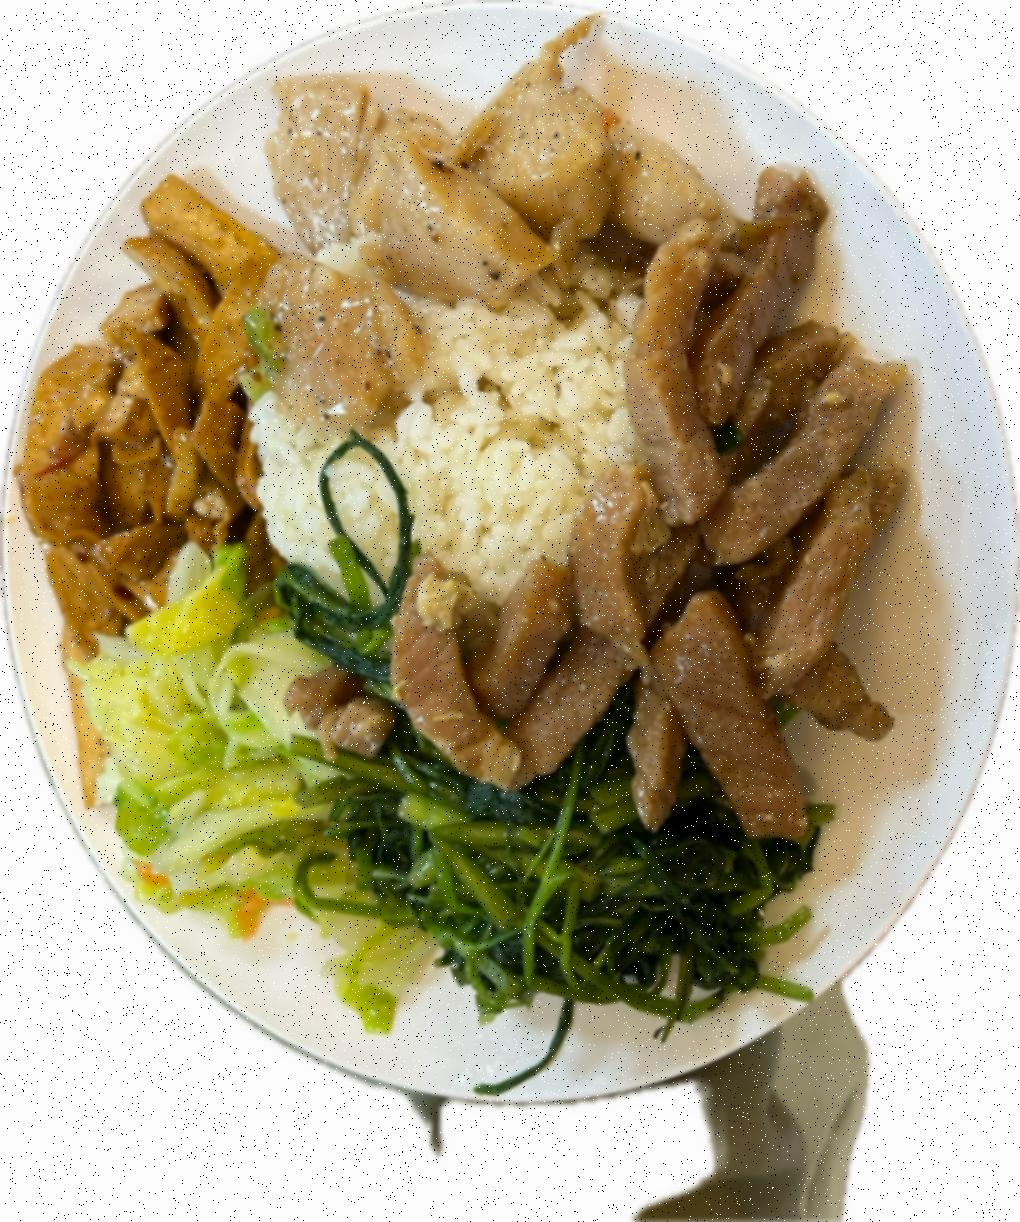big fried chicken leg: (0, 0, 1020, 1110)
big herbal chicken leg: (251, 241, 644, 591)
braised fish fillet: (274, 558, 820, 1018), (77, 542, 387, 1014), (12, 160, 279, 651)
braised pork: (383, 163, 927, 846), (249, 23, 754, 425)
